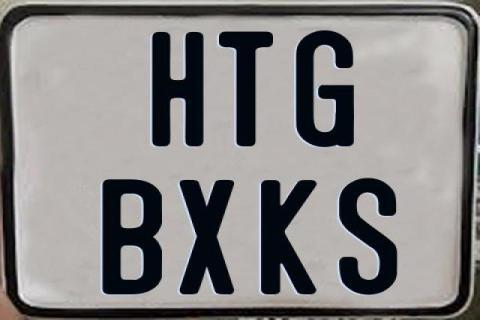B: (102, 178, 162, 294)
G: (294, 29, 355, 147)
H: (152, 32, 204, 151)
K: (260, 178, 321, 294)
S: (338, 175, 401, 292)
T: (216, 31, 273, 149)
X: (176, 179, 236, 295)
